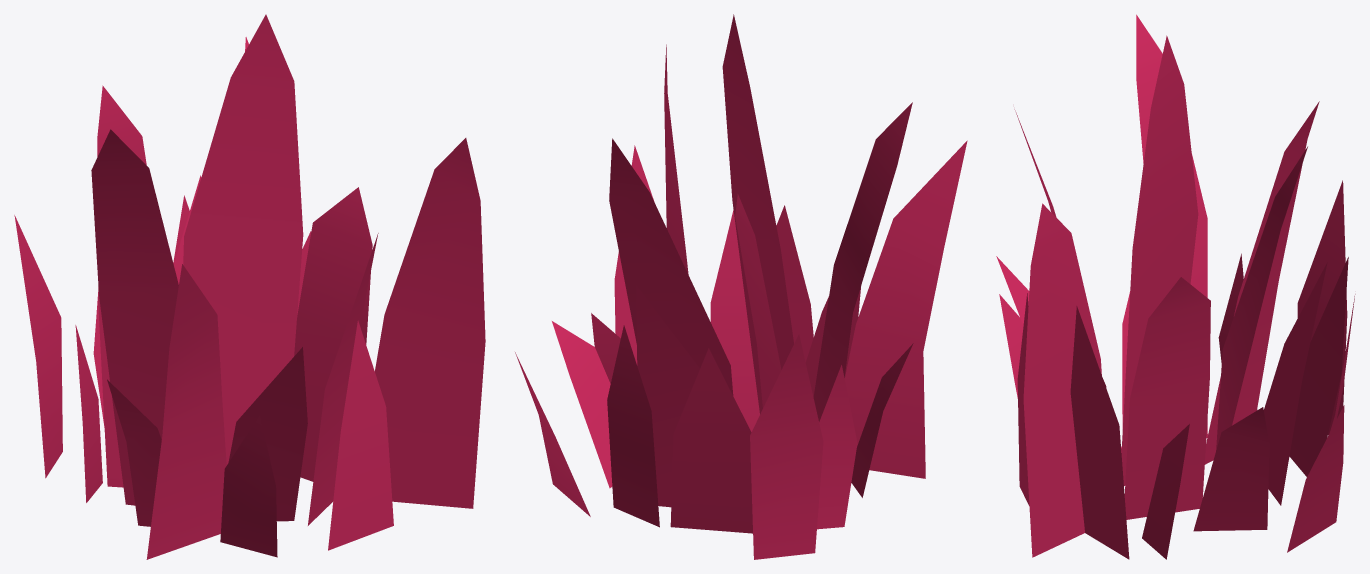
The model's file is Forest_Grass_02.fbx.
The picture shows the model from 3 angles, left to right: view 1: azimuth 30°, elevation 25°; view 2: azimuth 150°, elevation 25°; view 3: azimuth 270°, elevation 25°; orthographic projection. The views are drawn at different scales.
Parts seen in each view (by area): view 1: Forest_Grass_02; view 2: Forest_Grass_02; view 3: Forest_Grass_02.
Part boxes in pixels (x1=…): Forest_Grass_02: x1=14, y1=14, x2=485, y2=559; Forest_Grass_02: x1=515, y1=14, x2=967, y2=559; Forest_Grass_02: x1=996, y1=14, x2=1355, y2=559.
Size of the model in its own units: 23.03 by 32.38 by 23.02.
